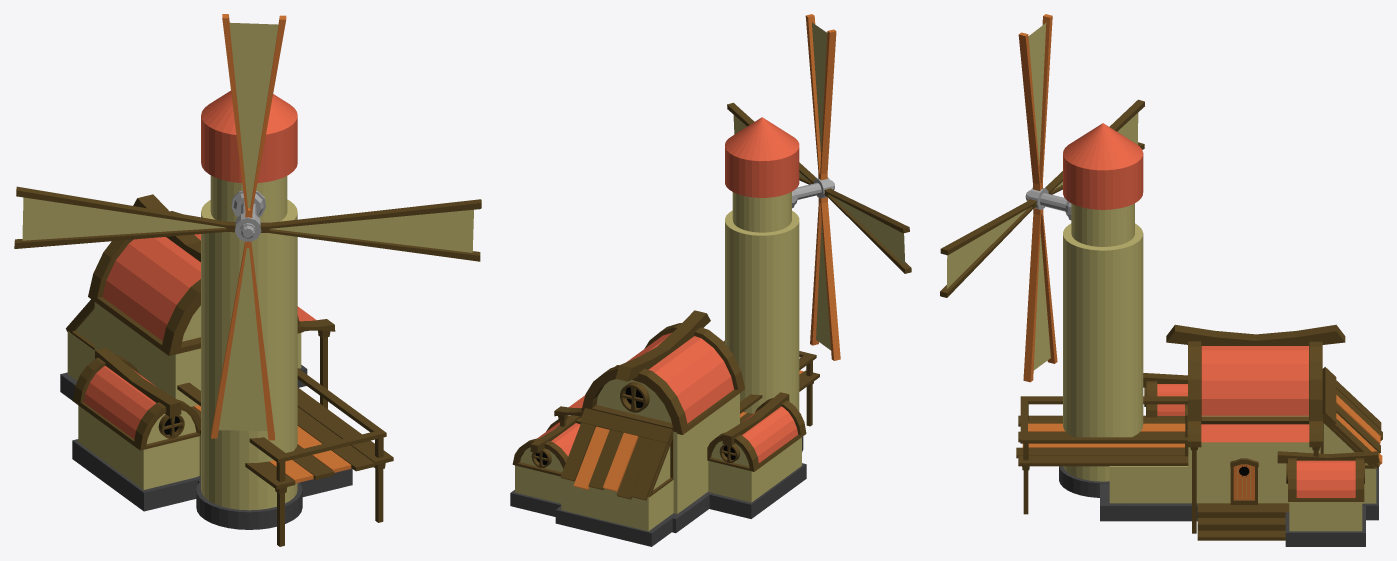
The model's file is Day 5 - Fantasy Windmill-RAW.glb.
3 views of the same model, side by side, from view 1: azimuth 30°, elevation 25°; view 2: azimuth 150°, elevation 25°; view 3: azimuth 270°, elevation 25° (orthographic). The views are drawn at different scales.
Parts seen in each view (by area): view 1: RAW BUILDING; view 2: RAW BUILDING; view 3: RAW BUILDING.
Part boxes in pixels (x1,y1,x2,y2): RAW BUILDING: [14, 14, 481, 546]; RAW BUILDING: [510, 14, 911, 546]; RAW BUILDING: [940, 14, 1382, 546].
Size of the model in its own units: 22.92 by 30.48 by 27.7.
